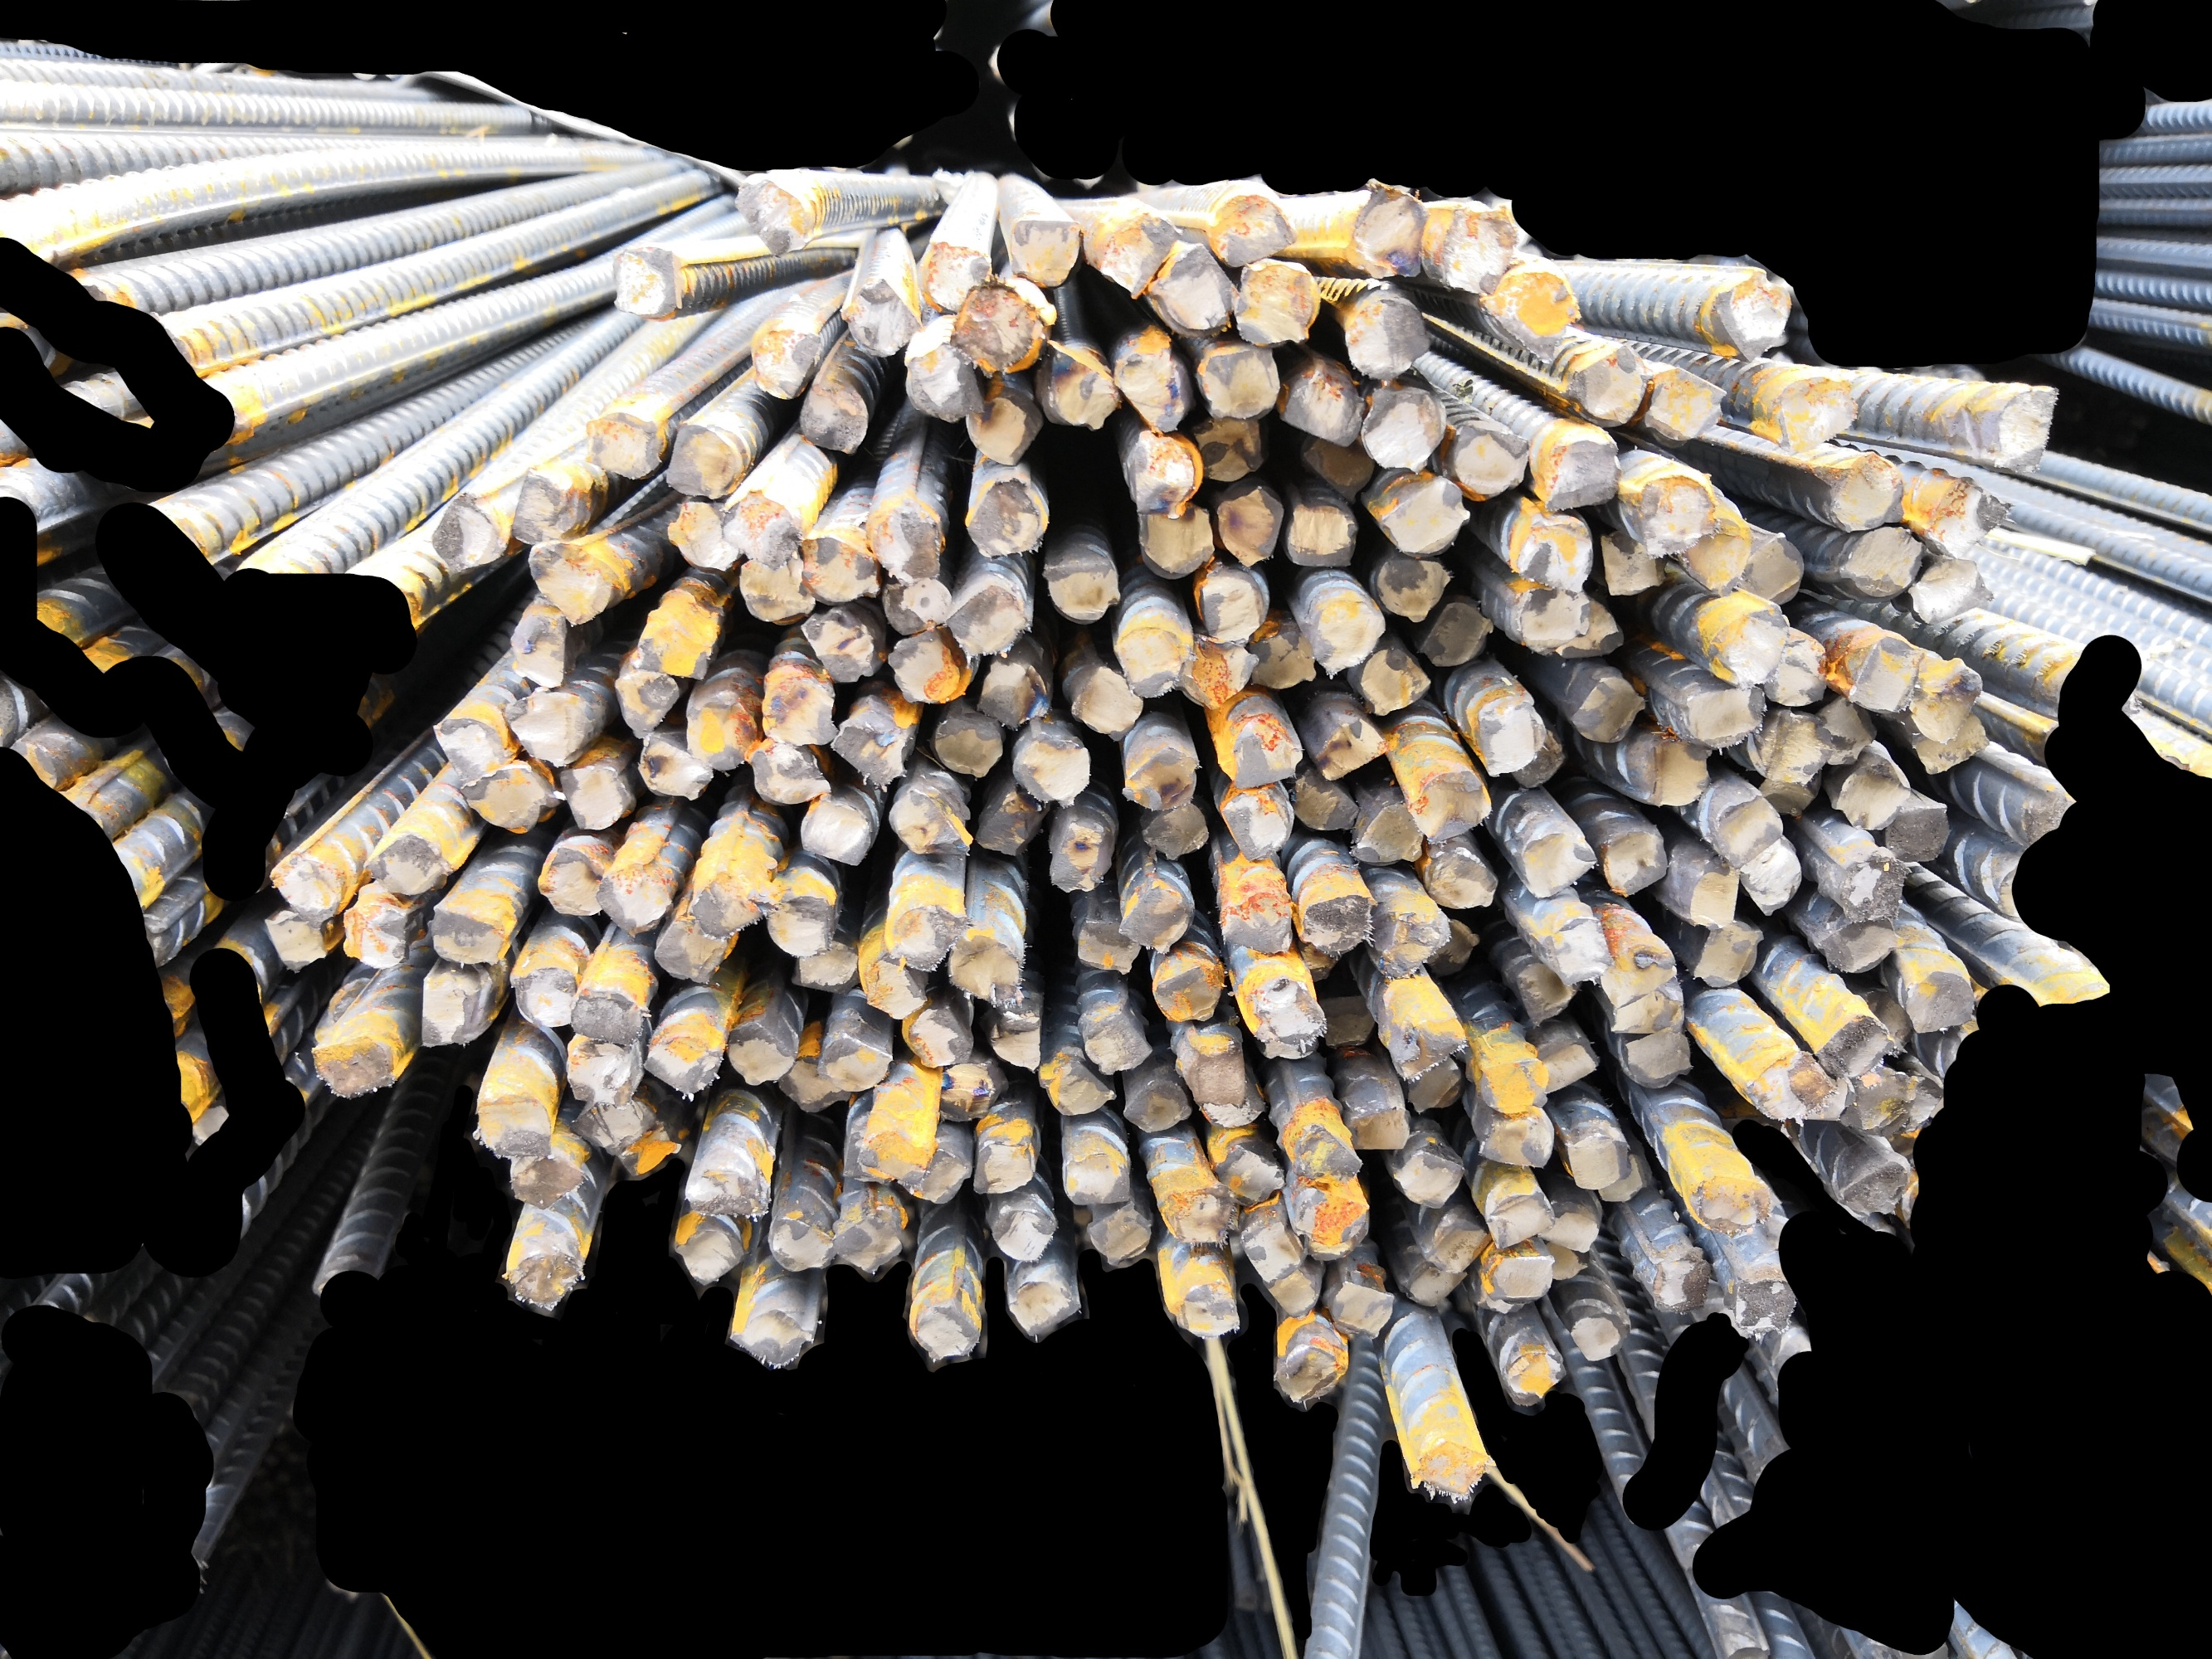rebar: (950, 281, 1051, 376), (1344, 185, 1428, 281), (1095, 207, 1180, 300), (1340, 296, 1433, 382), (1156, 242, 1239, 335), (1232, 260, 1320, 345), (903, 336, 987, 423), (1903, 657, 1987, 744), (1715, 275, 1797, 364), (1438, 204, 1518, 295), (1381, 476, 1471, 556), (526, 542, 612, 626), (1361, 387, 1447, 471), (1633, 474, 1717, 559), (1041, 345, 1123, 432), (1513, 505, 1595, 592), (1747, 706, 1835, 786), (1778, 375, 1862, 458), (948, 580, 1037, 659), (1206, 193, 1297, 270), (455, 762, 547, 836), (967, 474, 1049, 558), (1246, 978, 1327, 1063), (1126, 429, 1204, 516), (1837, 525, 1926, 599), (868, 504, 948, 586), (502, 694, 587, 770), (1114, 617, 1191, 702), (1405, 767, 1492, 842), (1114, 345, 1187, 434), (1309, 589, 1382, 678), (1926, 483, 2015, 556), (840, 279, 920, 359), (1647, 362, 1727, 443), (791, 376, 870, 458), (1543, 432, 1621, 514), (734, 173, 807, 260), (1989, 387, 2060, 476), (967, 385, 1044, 467), (1473, 694, 1548, 777), (1747, 1053, 1835, 1122), (1504, 263, 1581, 343), (1598, 934, 1680, 1009), (795, 533, 880, 605), (1719, 601, 1788, 688), (945, 934, 1023, 1011), (1452, 425, 1530, 502), (1848, 636, 1924, 714), (758, 674, 838, 749), (666, 420, 739, 502), (1199, 343, 1281, 416), (1137, 504, 1218, 577), (1217, 720, 1302, 789), (626, 613, 713, 681), (1011, 732, 1089, 807), (1175, 638, 1255, 711), (1712, 789, 1785, 870), (1834, 453, 1905, 535), (732, 551, 816, 620), (1809, 1011, 1893, 1080), (673, 1211, 748, 1288), (267, 854, 343, 929), (594, 863, 671, 938), (1285, 373, 1360, 450), (1572, 347, 1645, 425), (1377, 552, 1455, 626), (1637, 732, 1715, 805), (511, 469, 582, 549), (1213, 488, 1285, 568), (744, 737, 831, 802), (607, 242, 680, 319), (1520, 826, 1597, 899), (634, 730, 713, 802), (798, 613, 877, 685), (582, 411, 662, 481), (1693, 1171, 1773, 1241), (889, 789, 971, 857), (1215, 793, 1297, 861), (1912, 558, 1994, 626), (1740, 833, 1806, 917), (976, 659, 1051, 732), (431, 497, 504, 572), (668, 498, 743, 572), (1736, 532, 1811, 605), (1295, 1185, 1370, 1258), (1835, 758, 1910, 831), (1072, 662, 1143, 739), (1571, 674, 1647, 746), (889, 903, 967, 972), (1356, 648, 1435, 718), (1375, 910, 1454, 979), (1149, 953, 1227, 1023), (1834, 852, 1912, 922), (1121, 748, 1204, 812), (1157, 1182, 1241, 1246), (1682, 681, 1768, 744), (906, 1291, 981, 1363), (1300, 430, 1375, 502), (1192, 411, 1264, 486), (1394, 1011, 1469, 1082), (1391, 1140, 1466, 1211), (312, 1037, 396, 1100), (889, 633, 962, 704), (1006, 214, 1077, 288), (535, 843, 605, 918), (689, 870, 763, 939), (1520, 587, 1595, 657), (1419, 599, 1494, 669), (432, 714, 509, 782), (922, 239, 990, 315), (1299, 890, 1375, 958), (1351, 802, 1429, 868), (363, 838, 450, 897), (610, 667, 682, 739), (340, 899, 413, 969), (1121, 882, 1191, 955), (833, 720, 908, 788), (1311, 714, 1388, 781), (1689, 920, 1766, 986), (506, 610, 570, 688), (1609, 972, 1687, 1037), (641, 1032, 722, 1094), (1042, 563, 1123, 626), (797, 798, 868, 868), (1288, 498, 1358, 570), (689, 699, 757, 772), (1220, 889, 1293, 957), (1602, 824, 1670, 897), (1686, 514, 1752, 589), (506, 1249, 584, 1312), (1818, 913, 1898, 974), (1288, 765, 1360, 833), (1476, 1053, 1550, 1119), (831, 1213, 906, 1277), (427, 903, 502, 967), (1137, 798, 1211, 863), (1914, 714, 1991, 777), (572, 1100, 657, 1155), (568, 986, 648, 1046), (560, 763, 628, 833), (1902, 967, 1971, 1035), (1555, 596, 1626, 662), (1623, 1021, 1694, 1087), (1081, 1011, 1154, 1075), (1513, 957, 1578, 1030), (751, 328, 814, 403), (896, 1147, 973, 1208), (1004, 1279, 1082, 1338), (474, 1096, 553, 1155), (654, 918, 722, 986), (1600, 526, 1666, 596), (1198, 573, 1264, 643), (905, 1004, 976, 1068), (933, 714, 1004, 779), (1682, 863, 1747, 934), (1548, 913, 1612, 985), (1415, 1439, 1487, 1504), (859, 1127, 933, 1190), (1042, 1056, 1116, 1119), (1815, 692, 1876, 767), (730, 1312, 812, 1368), (777, 1051, 849, 1114), (509, 967, 580, 1030), (882, 573, 953, 636), (1213, 1145, 1285, 1208), (1292, 1126, 1365, 1187), (818, 1033, 892, 1093), (1246, 626, 1313, 692), (929, 1060, 997, 1124), (1048, 823, 1107, 896), (1424, 849, 1497, 908), (685, 1166, 765, 1220), (973, 789, 1037, 856), (1184, 1044, 1248, 1110), (1733, 1269, 1797, 1335), (1485, 1188, 1553, 1251), (413, 978, 474, 1047), (507, 1155, 586, 1209), (1851, 1065, 1910, 1136), (1123, 1077, 1196, 1134), (1480, 1114, 1553, 1171), (263, 911, 328, 976), (765, 894, 830, 958), (1332, 1277, 1396, 1342), (1649, 1255, 1719, 1314), (565, 1047, 636, 1105), (791, 938, 863, 995), (1766, 641, 1829, 706), (971, 1136, 1037, 1197), (765, 1215, 833, 1274), (1086, 1208, 1154, 1267), (1060, 1154, 1133, 1208), (1075, 915, 1138, 978), (1245, 1222, 1304, 1288), (1565, 1134, 1633, 1192), (865, 960, 929, 1019), (1421, 1216, 1487, 1274), (1313, 992, 1381, 1047), (1858, 985, 1914, 1053), (1886, 807, 1954, 863), (615, 1122, 678, 1182), (1177, 1279, 1239, 1338), (1276, 1342, 1339, 1401), (725, 1035, 795, 1087), (1405, 1056, 1466, 1115), (987, 1011, 1042, 1073), (1842, 1161, 1907, 1215), (992, 1209, 1058, 1262), (1429, 915, 1482, 979), (1543, 1039, 1597, 1098), (1755, 769, 1822, 816), (1508, 1347, 1564, 1403), (1597, 1154, 1656, 1206), (1349, 1103, 1410, 1154), (1487, 1255, 1555, 1300), (1520, 725, 1565, 791), (1407, 1260, 1468, 1309), (1264, 1269, 1320, 1319), (1543, 1209, 1602, 1256), (1572, 1314, 1625, 1364), (1198, 1094, 1267, 1131), (1902, 1072, 1940, 1136), (1543, 1237, 1590, 1284), (1480, 1293, 1532, 1316)
